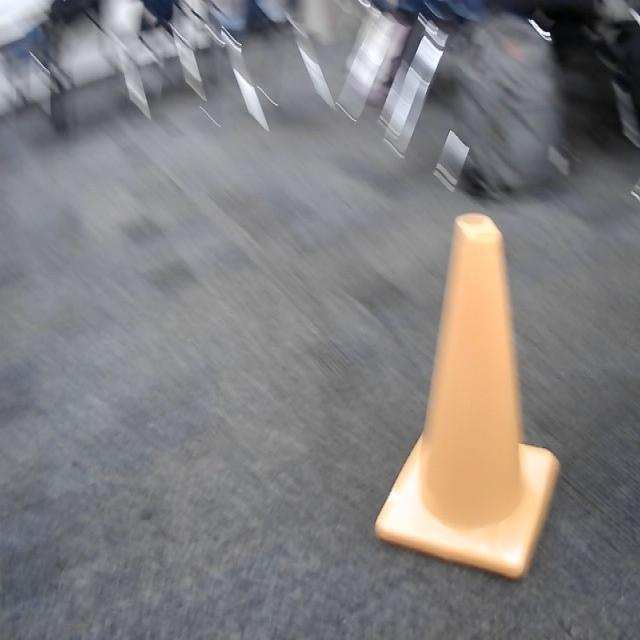cone: (368, 209, 565, 585)
